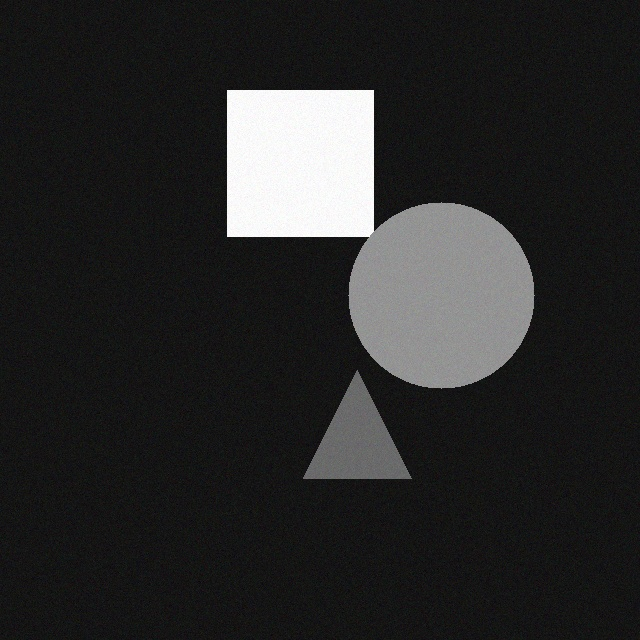circle: (338, 188, 524, 374)
square: (217, 76, 363, 222)
triangle: (293, 356, 401, 464)
